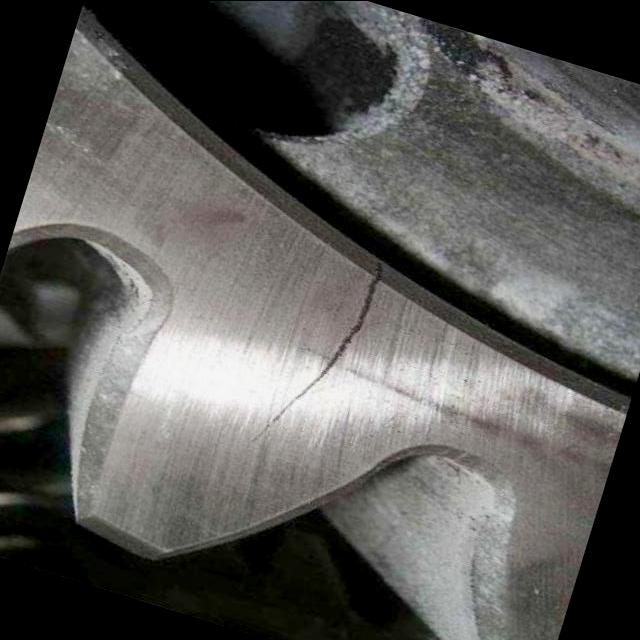defect: (242, 256, 389, 447)
